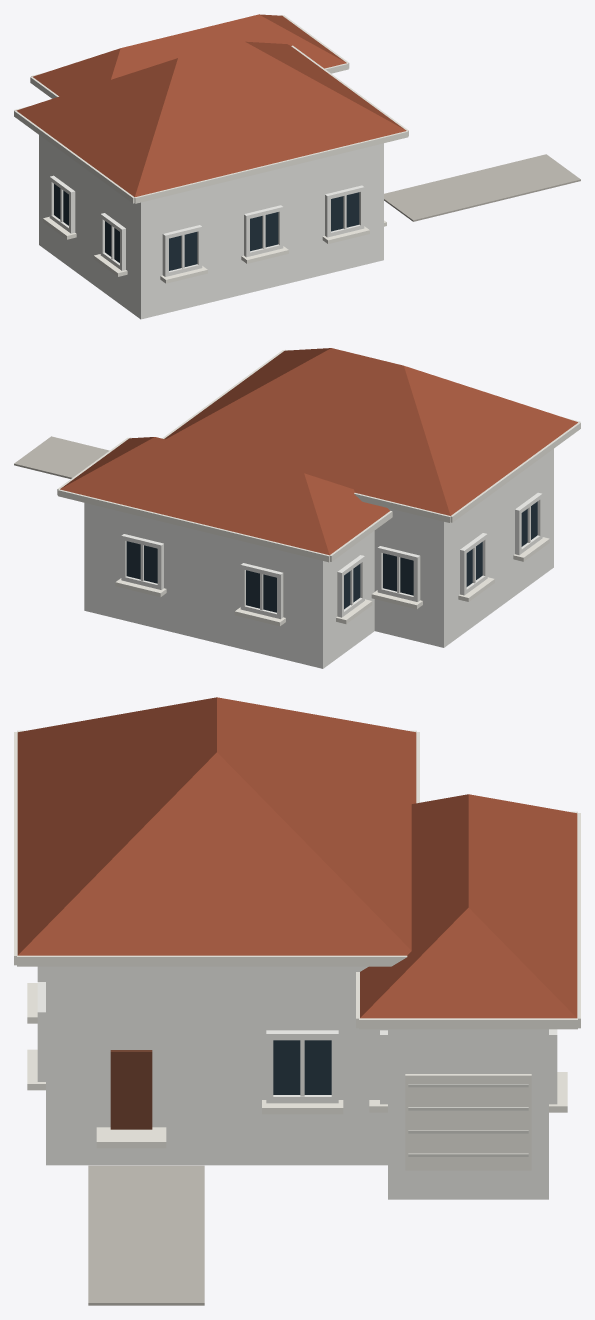
3 views of the same model, one above another, from view 1: azimuth 30°, elevation 25°; view 2: azimuth 150°, elevation 25°; view 3: azimuth 270°, elevation 25° (orthographic). The views are drawn at different scales.
Parts seen in each view (by area): view 1: b3691; view 2: b3691; view 3: b3691.
Part boxes in pixels (<box>): b3691: <box>14,14,580,319</box>; b3691: <box>14,348,580,668</box>; b3691: <box>14,697,580,1305</box>.
Bounding box in the file's own units: 7838 × 3237 × 4880.
